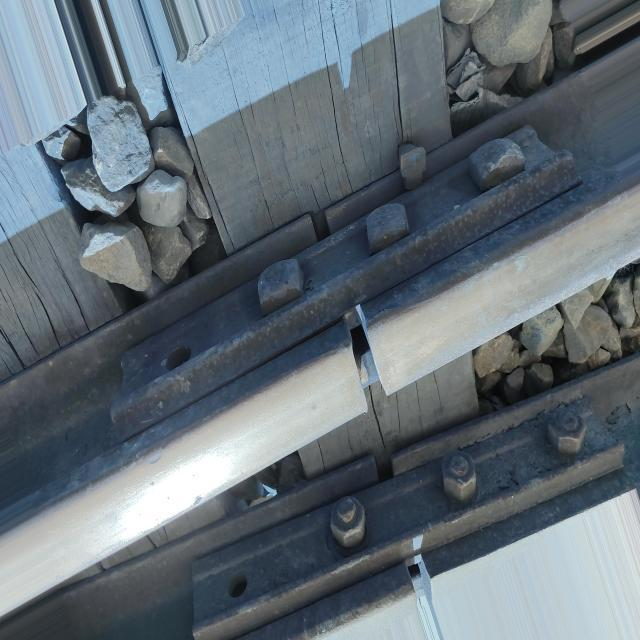Defective Joint: (109, 121, 590, 442), (189, 398, 628, 640)
